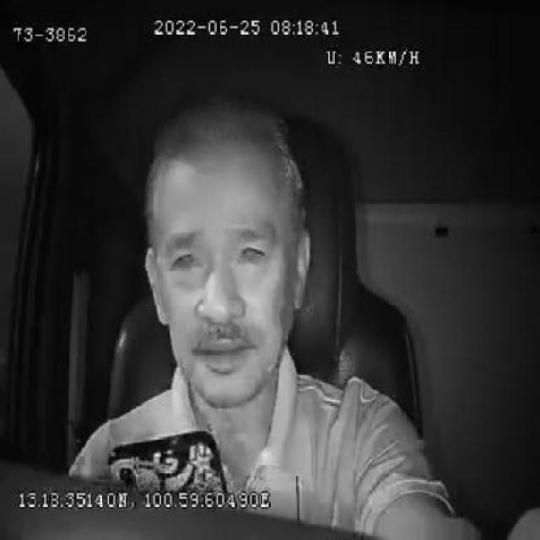phone: (108, 430, 226, 490)
